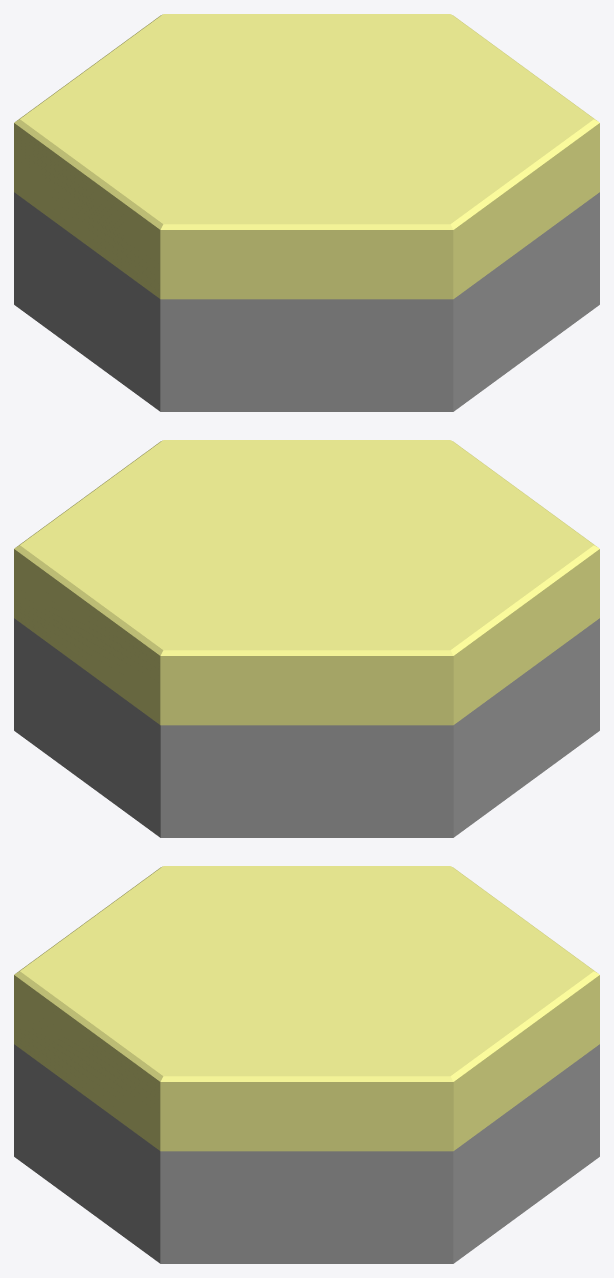
The model's file is RPG_Tiles_Hex_Stone_Covered_Raised_01.FBX.
3 views of the same model, one above another, from view 1: azimuth 30°, elevation 25°; view 2: azimuth 150°, elevation 25°; view 3: azimuth 270°, elevation 25° (orthographic).
Visible parts, largest first — view 1: RPG_Tiles_Hex_Stone_Covered_Raised_01; view 2: RPG_Tiles_Hex_Stone_Covered_Raised_01; view 3: RPG_Tiles_Hex_Stone_Covered_Raised_01.
Part boxes in pixels (left/top/right/bottom): RPG_Tiles_Hex_Stone_Covered_Raised_01: left=14, top=14, right=599, bottom=411; RPG_Tiles_Hex_Stone_Covered_Raised_01: left=14, top=440, right=599, bottom=837; RPG_Tiles_Hex_Stone_Covered_Raised_01: left=14, top=866, right=599, bottom=1263.
Bounding box in the file's own units: 3000 × 1210 × 3464.
